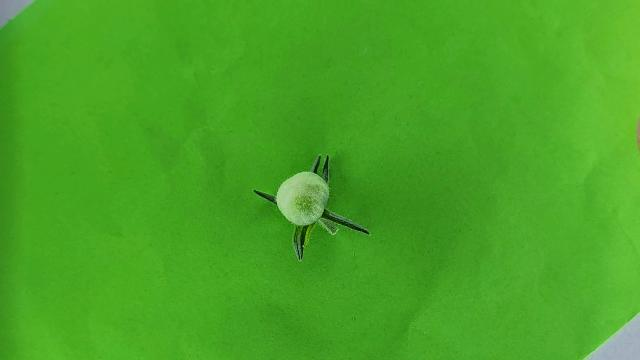Fruit Maturation: (277, 170, 331, 225)
